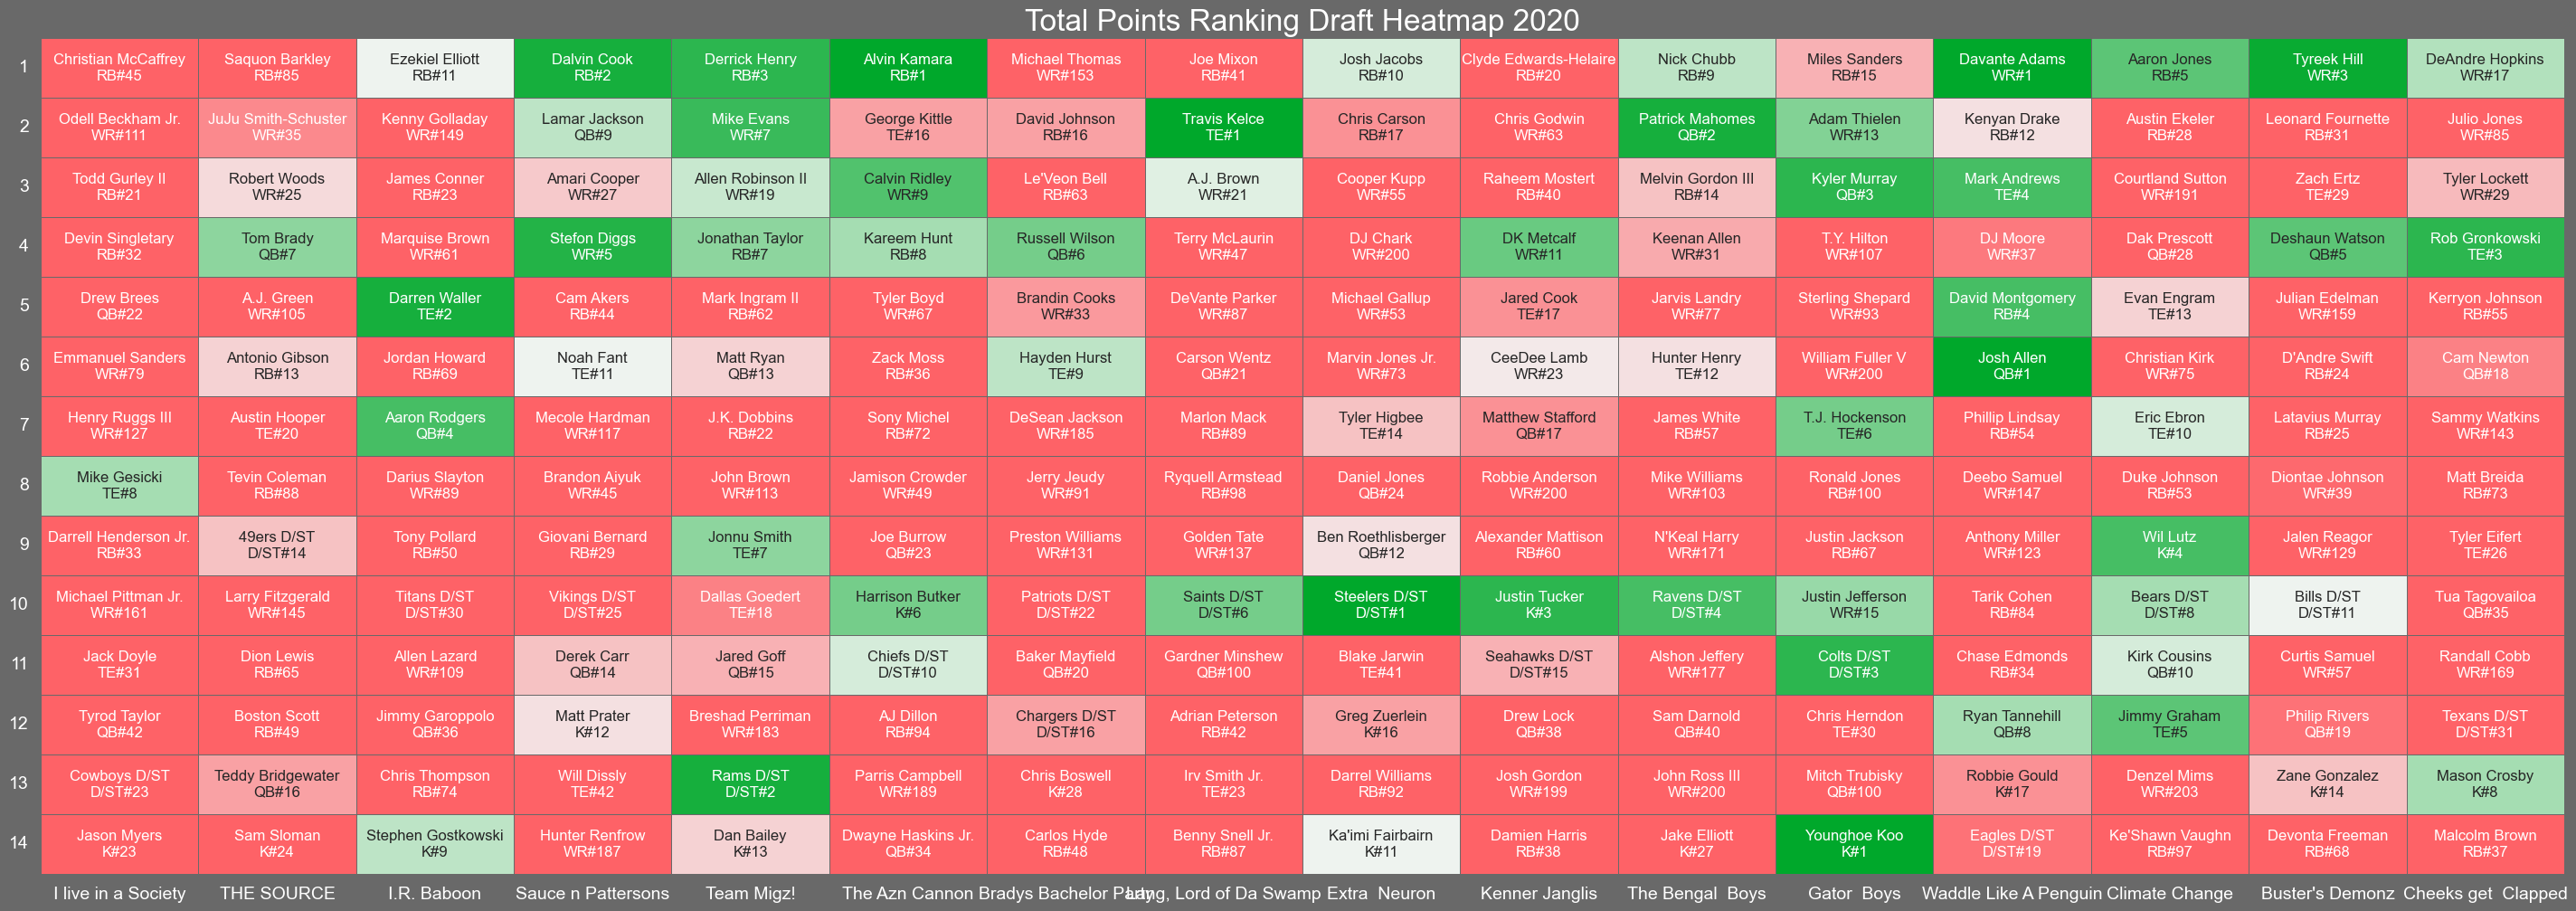

The dashboard page shown, as its layout file describes it:
{"tool":"powerbi","page":{"name":"Page 3","canvas":[1280,720],"ordinal":2},"visuals":[{"type":"pivotTable","fields":{"Rows":["Query1.round","Query1.playername"],"Columns":["Query1.pick"],"Values":["Sum(Query1.total)"]},"box":[0,0,1280,720],"z":1}]}

Visuals, with their boxes on the page's 1280x720 design canvas (x1, y1, x2, y2). These are canvas units, not pixel positions in the 2576x911 screenshot, which may show the page scaled, cropped or inside an application window:
pivotTable - Query1.round x Query1.playername: 0,0,1280,720
